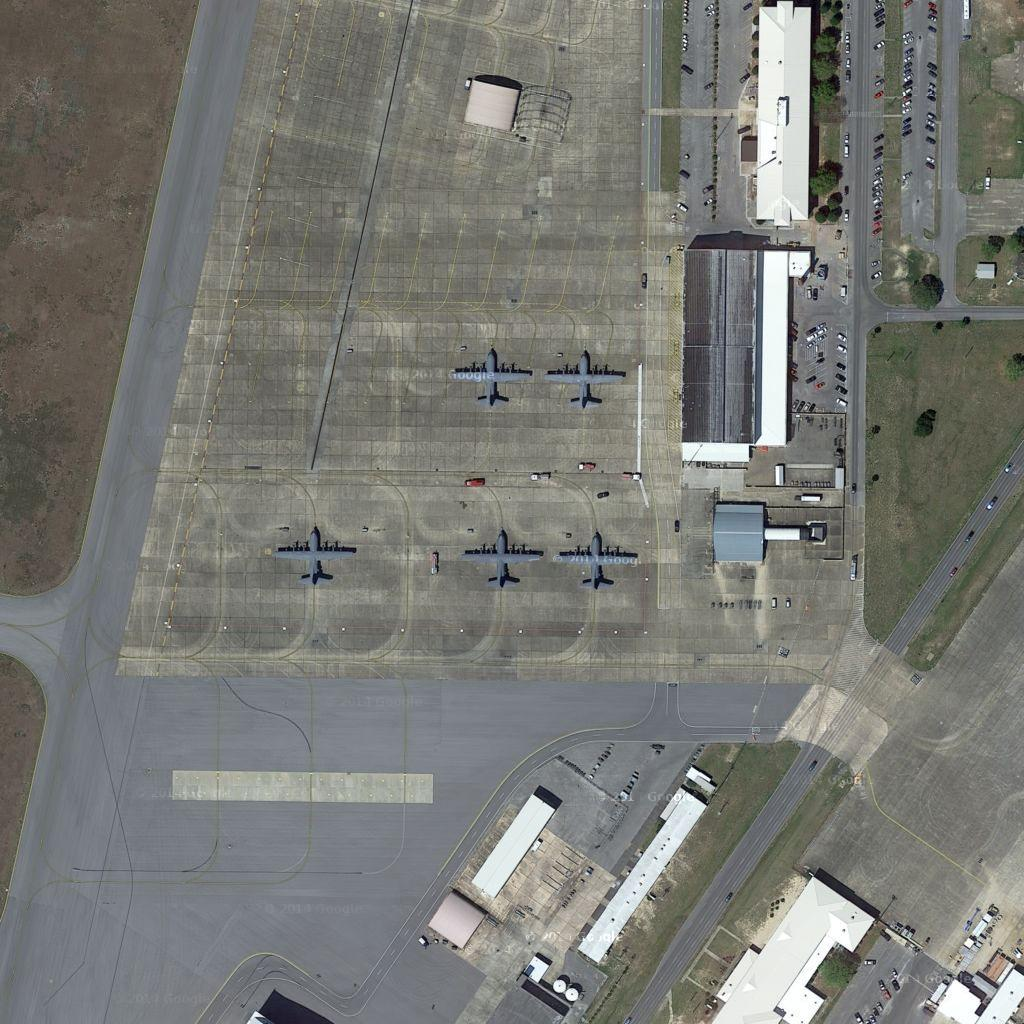C-130: (454, 524, 548, 593), (540, 344, 632, 412), (448, 343, 536, 414), (268, 521, 358, 586), (548, 530, 644, 589)
